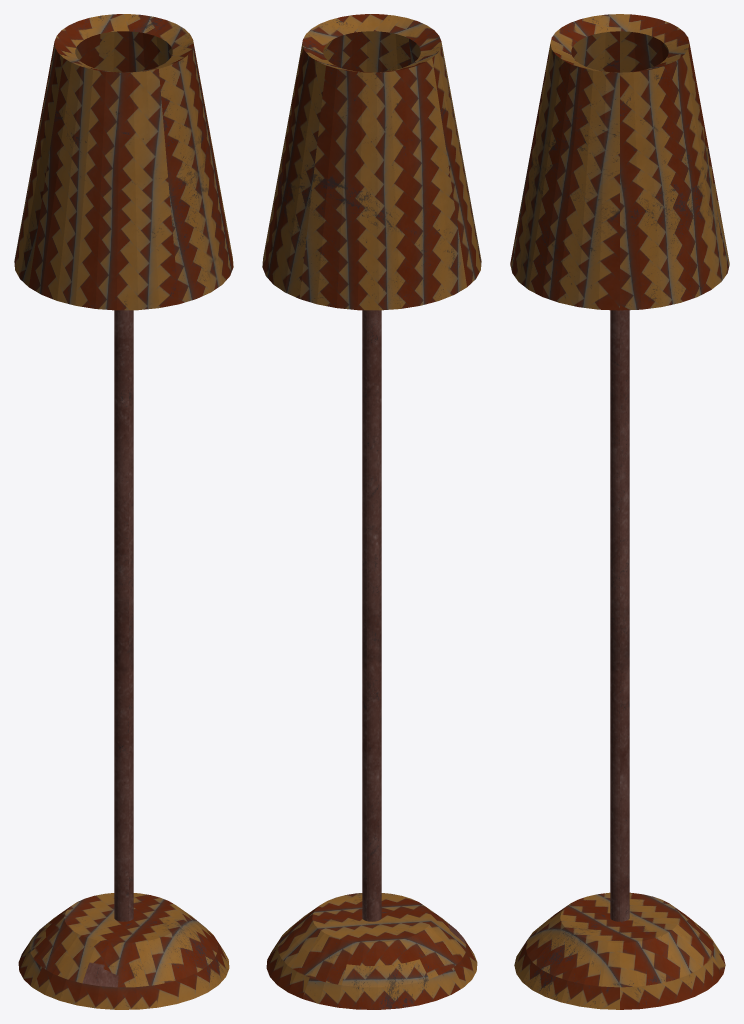
File: Asset_Lampadairz.fbx
3 views of the same model, side by side, from view 1: azimuth 30°, elevation 25°; view 2: azimuth 150°, elevation 25°; view 3: azimuth 270°, elevation 25° (orthographic).
Parts seen in each view (by area): view 1: Foot_Lamp; view 2: Foot_Lamp; view 3: Foot_Lamp.
Part boxes in pixels (<box>): Foot_Lamp: <box>14,14,233,1009</box>; Foot_Lamp: <box>262,14,481,1009</box>; Foot_Lamp: <box>510,14,729,1009</box>.
Bounding box in the file's own units: 40.78 × 189 × 40.78.
Materials: 1 (1 with a texture image).
